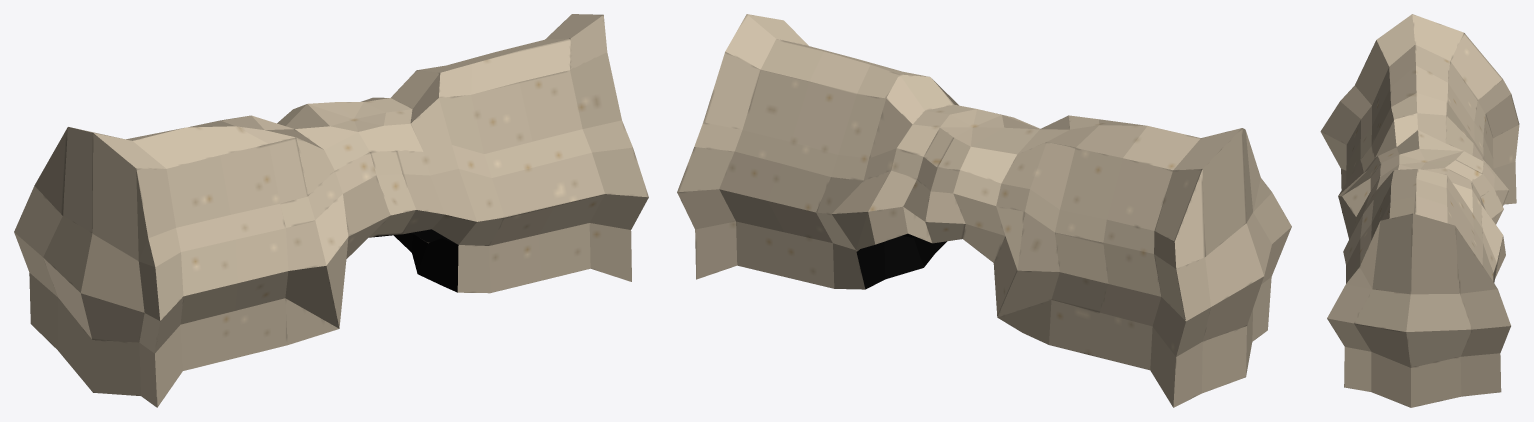
The model's file is rock.fbx.
The picture shows the model from 3 angles, left to right: view 1: azimuth 30°, elevation 25°; view 2: azimuth 150°, elevation 25°; view 3: azimuth 270°, elevation 25°; orthographic projection. The views are drawn at different scales.
Visible parts, largest first — view 1: sphere; view 2: sphere; view 3: sphere.
Boxes of the visible parts, box(x1,y1,x2,y2) form: sphere: box(14, 14, 648, 407); sphere: box(677, 14, 1291, 407); sphere: box(1320, 14, 1519, 407).
Size of the model in its own units: 747 by 339 by 304.
Materials: 1 (1 with a texture image).
